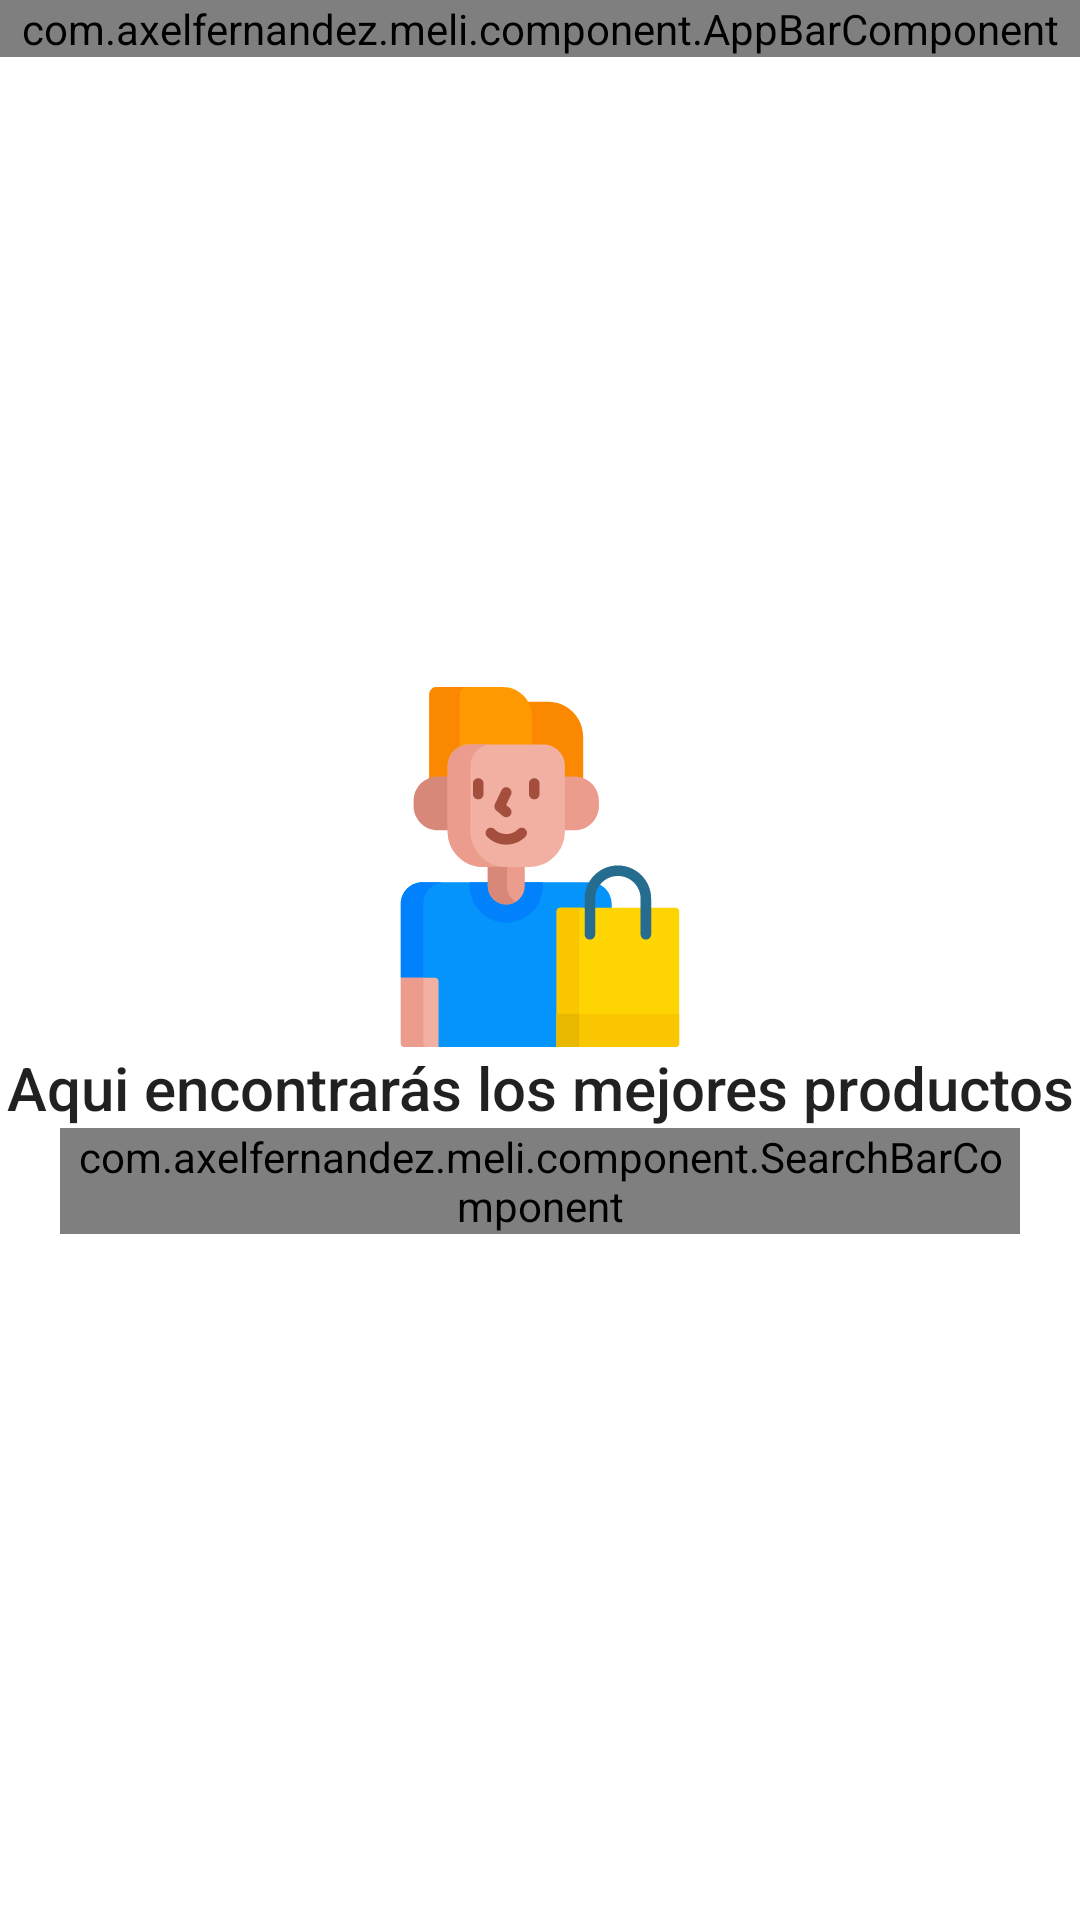

Icons on this 1080*1920 Android screen, each with its box as detection(x1, y1, x2, y2):
customer: detection(400, 687, 680, 1047)
